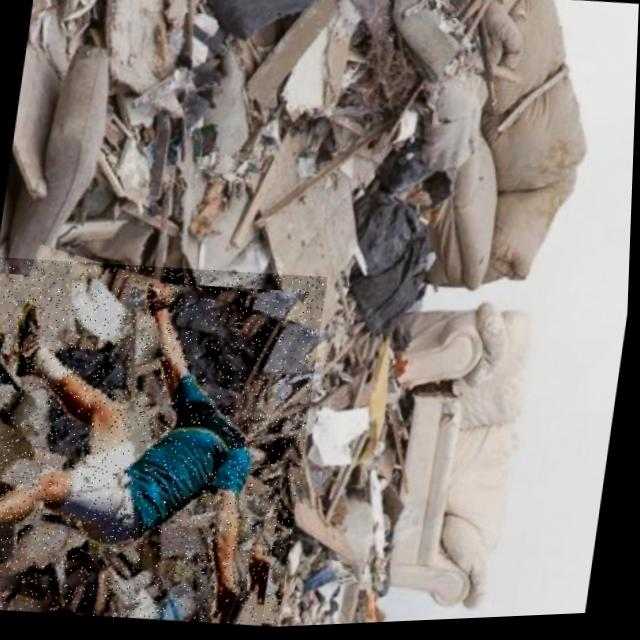Person in Rubble: (0, 244, 330, 639)
